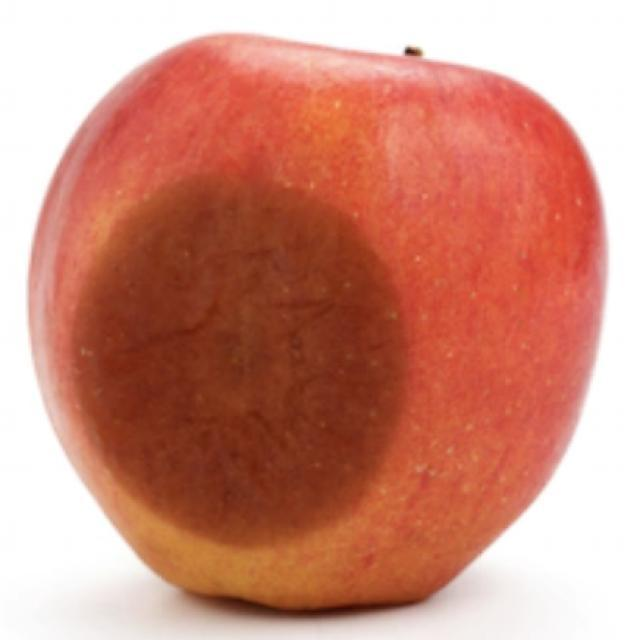Rotten: (63, 42, 607, 618)
